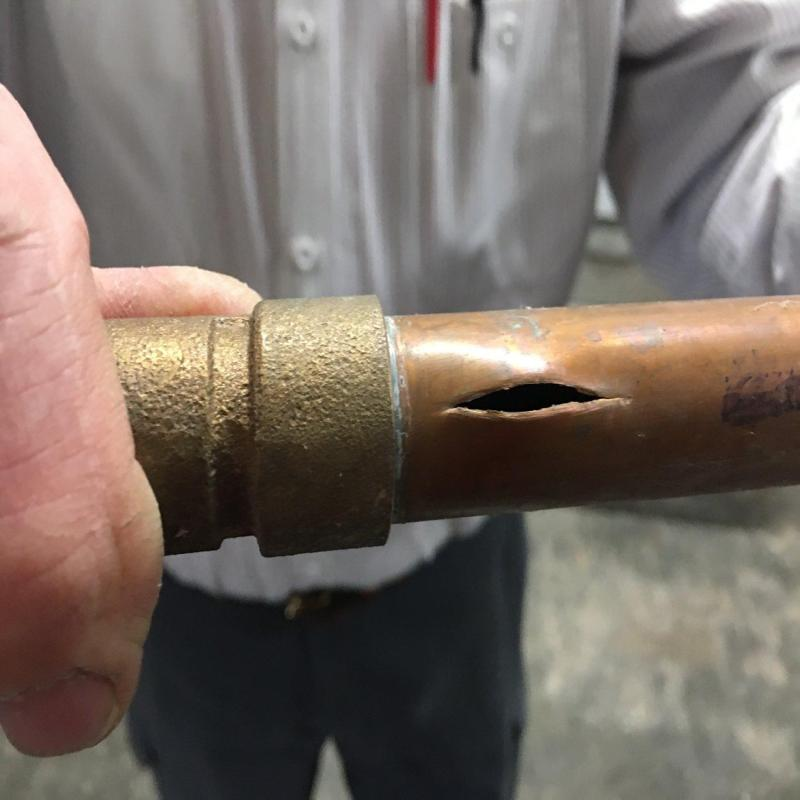Fracture: (445, 367, 650, 424)
